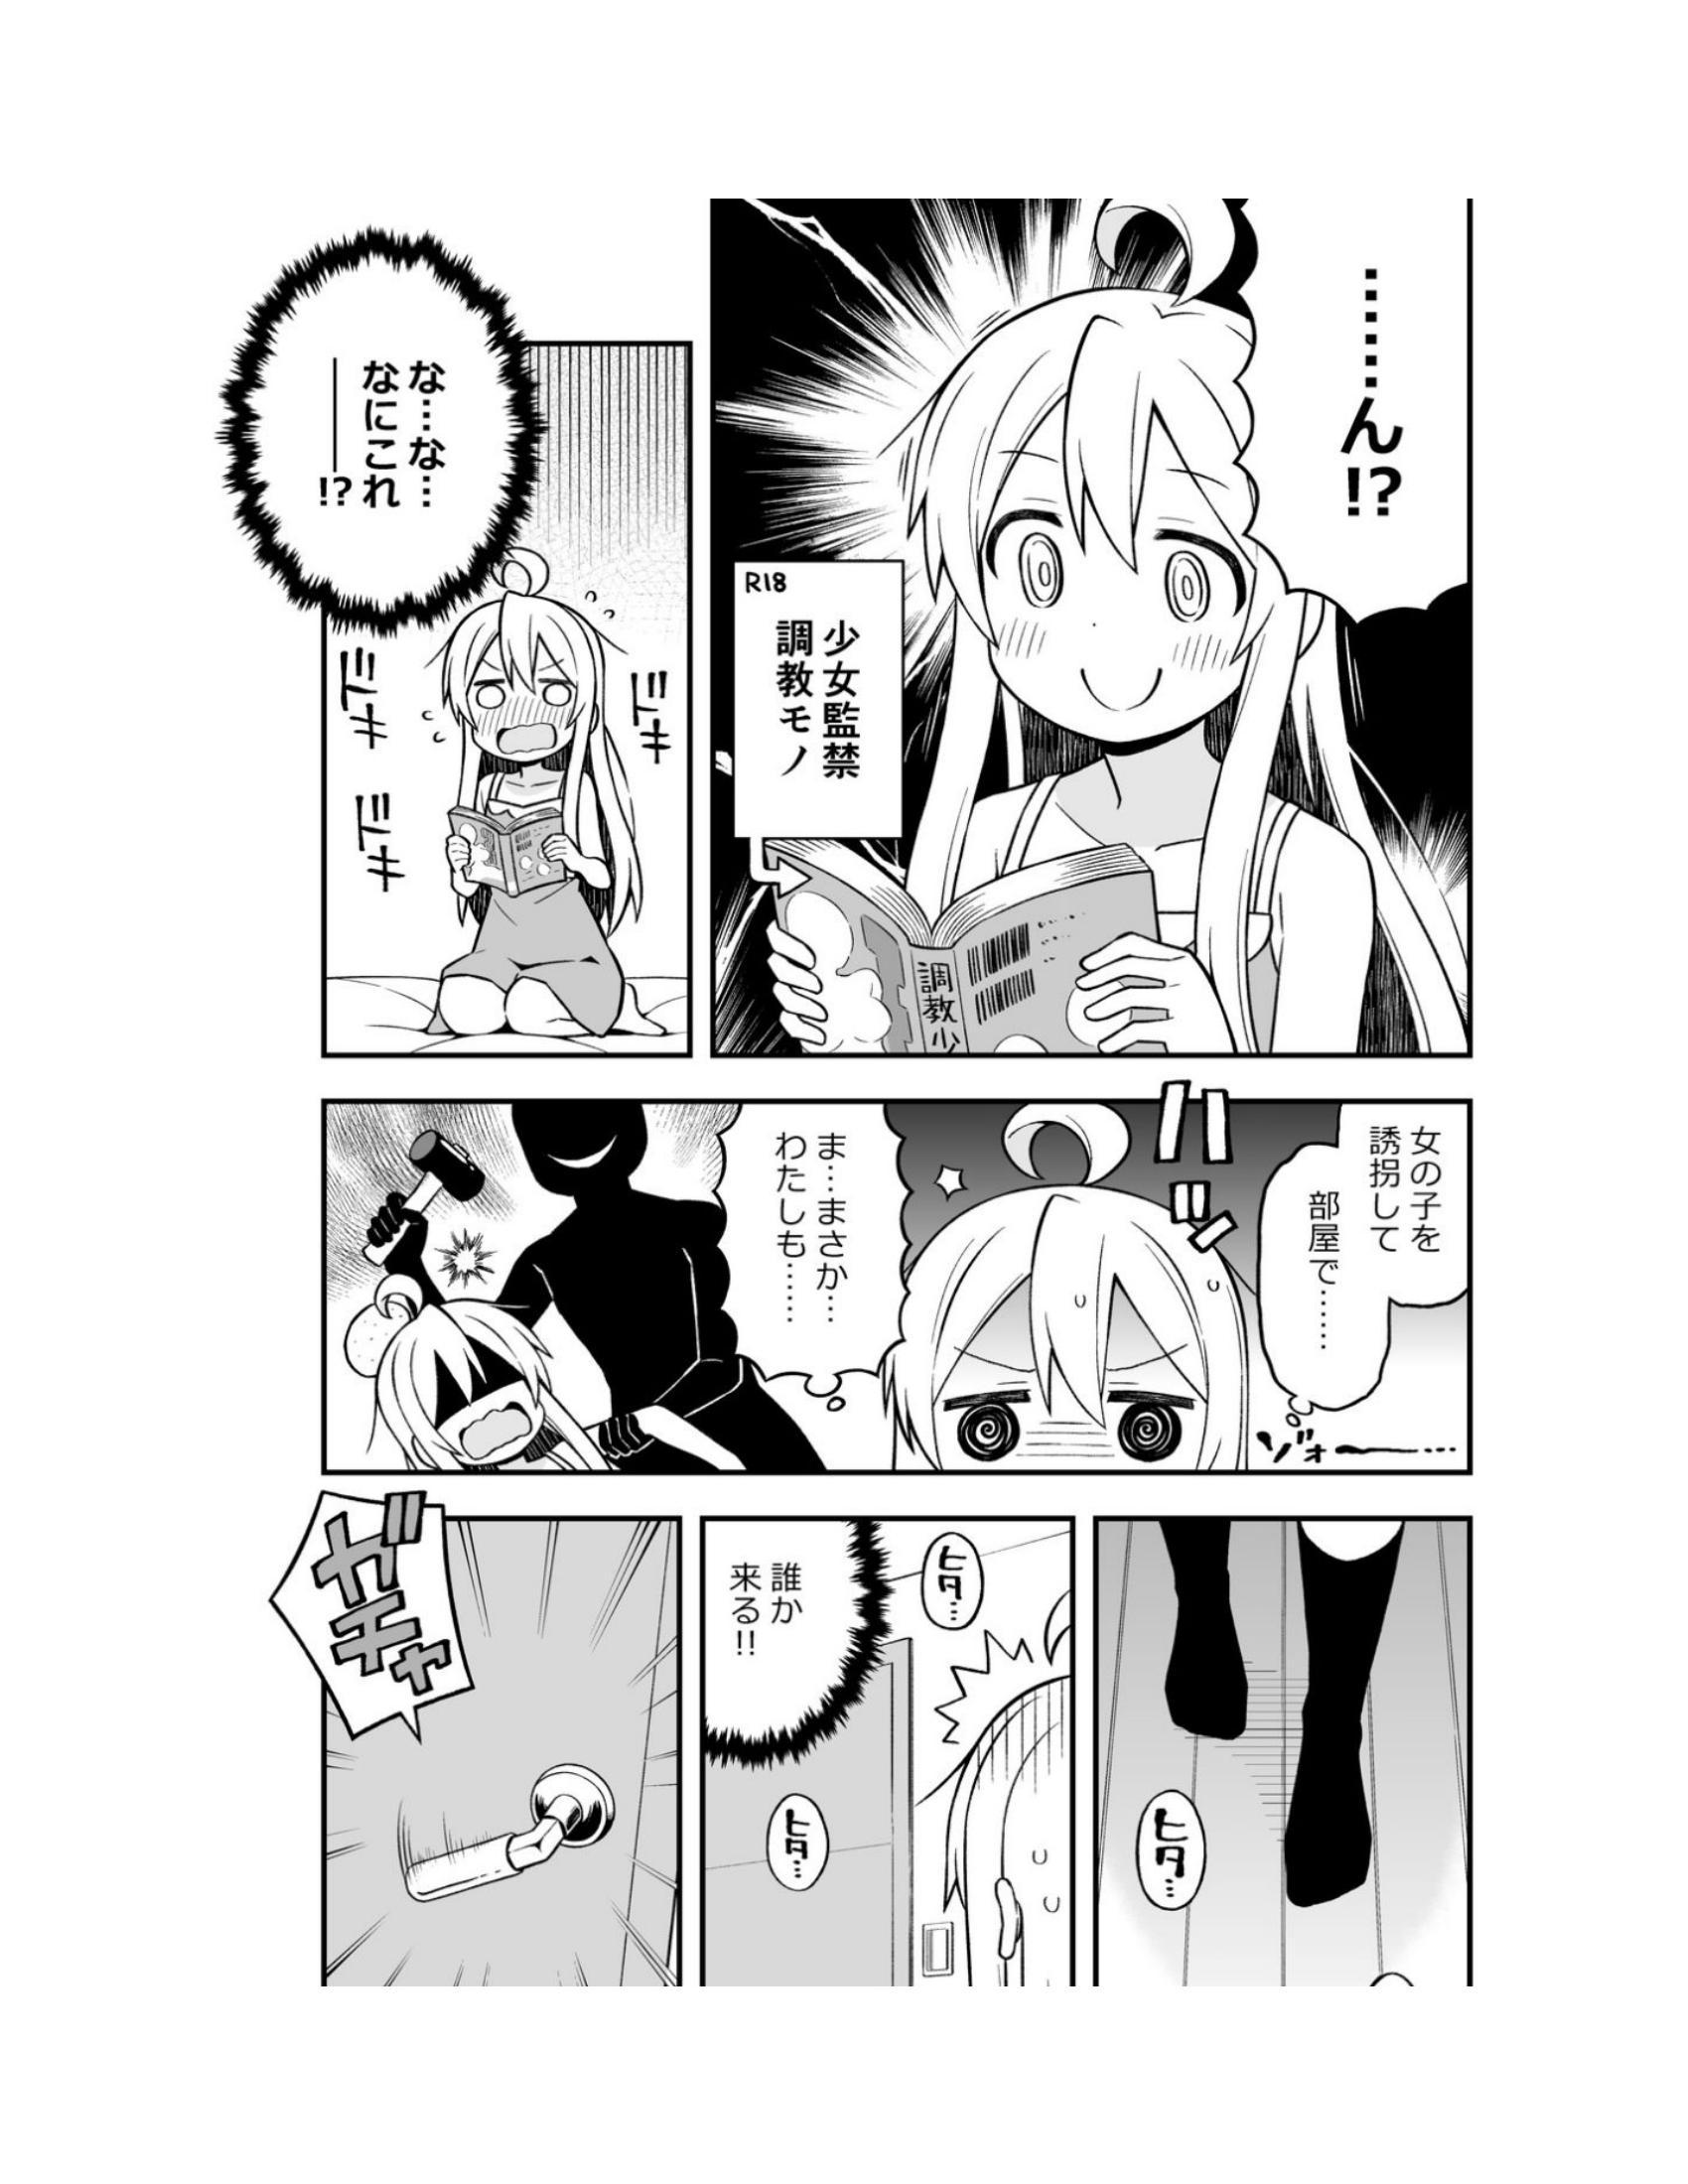a: (231, 191, 530, 610), (1241, 202, 1489, 670), (702, 535, 950, 858), (1280, 1113, 1497, 1447), (684, 1487, 901, 1813), (725, 1090, 942, 1386)
